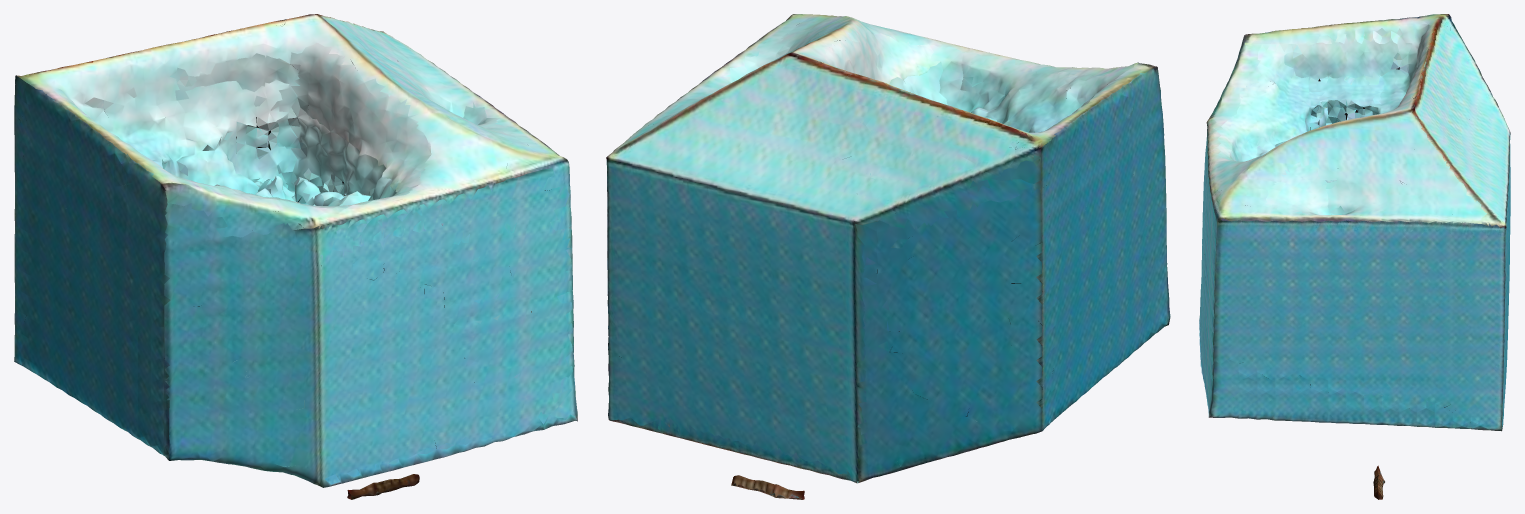
3 views of the same model, side by side, from view 1: azimuth 30°, elevation 25°; view 2: azimuth 150°, elevation 25°; view 3: azimuth 270°, elevation 25° (orthographic). The views are drawn at different scales.
Visible parts, largest first — view 1: world; view 2: world; view 3: world.
Part boxes in pixels (left/top/right/bottom): world: left=14, top=14, right=577, bottom=499; world: left=606, top=14, right=1170, bottom=499; world: left=1199, top=14, right=1510, bottom=499.
Size of the model in its own units: 0.887 by 0.9785 by 0.7631.
Materials: 1 (1 with a texture image).
